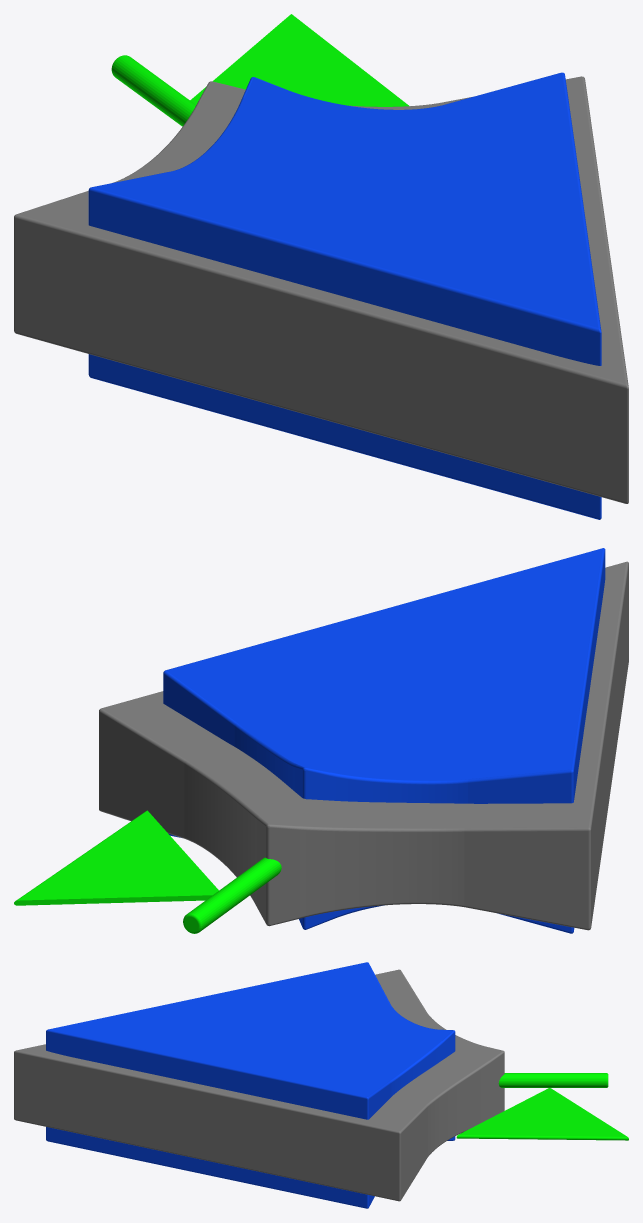
The model's file is 防御の実.fbx.
3 renders of one model, top to bottom at view 1: azimuth 30°, elevation 25°; view 2: azimuth 150°, elevation 25°; view 3: azimuth 270°, elevation 25°, orthographic. The views are drawn at different scales.
Visible parts, largest first — view 1: 立方体; view 2: 立方体; view 3: 立方体.
Boxes of the visible parts, x1,y1,x2,y2 form: 立方体: (14, 14, 628, 519); 立方体: (14, 548, 628, 933); 立方体: (14, 962, 628, 1208).
Size of the model in its own units: 199 by 63.92 by 317.
